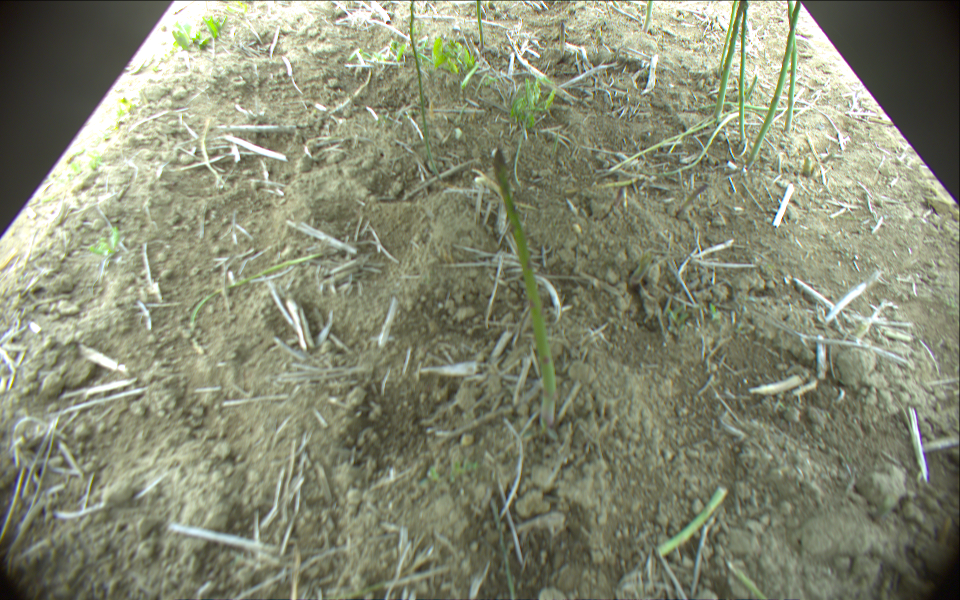aspa: (492, 147, 558, 425), (188, 242, 376, 334), (749, 1, 802, 165), (408, 1, 444, 186), (651, 486, 727, 558), (715, 1, 742, 119), (739, 1, 749, 142), (783, 1, 794, 129), (726, 562, 763, 600), (719, 1, 736, 73), (476, 1, 484, 52), (643, 1, 652, 32), (558, 21, 566, 54)
